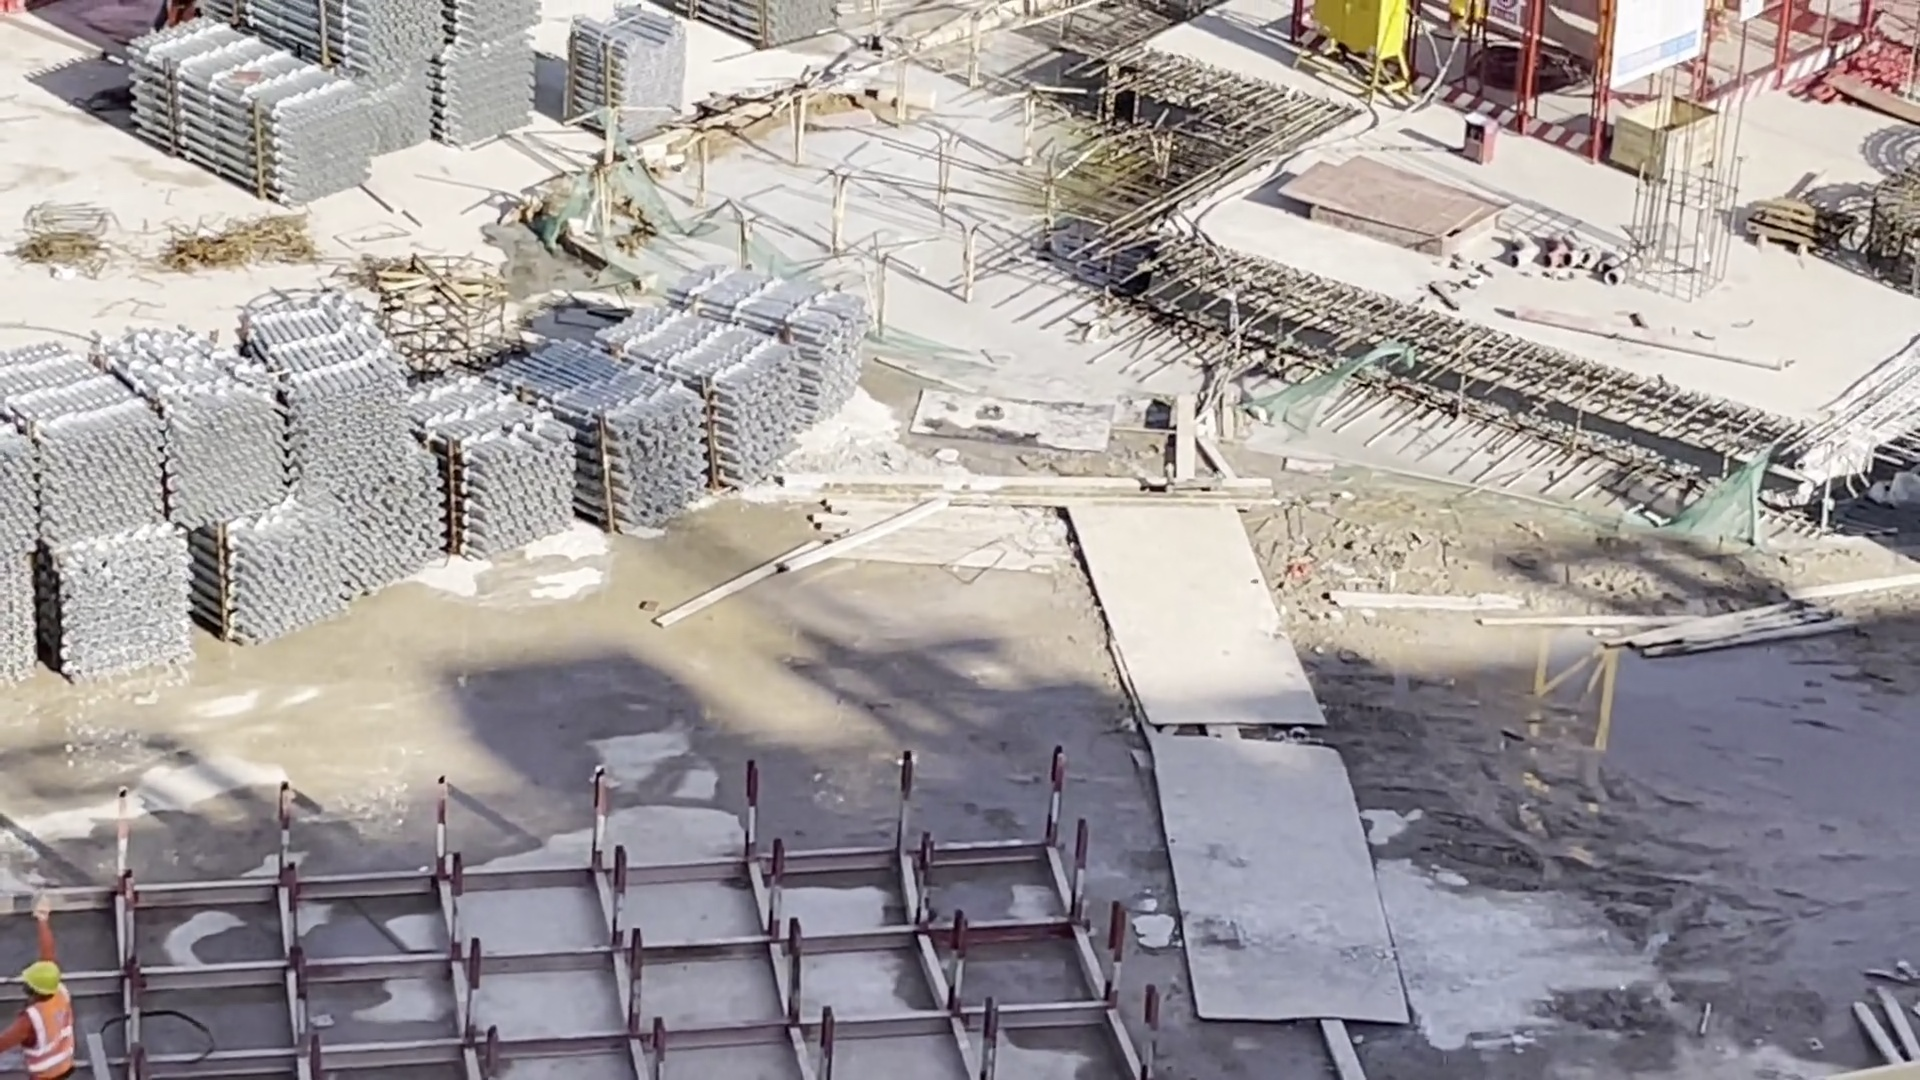board: (1275, 139, 1510, 265)
ebox: (1295, 2, 1415, 87)
helmet: (14, 946, 93, 1018)
person: (10, 941, 110, 1080)
scaffold: (1, 255, 868, 689), (126, 2, 529, 204), (562, 5, 694, 143)
vest: (8, 1016, 98, 1080)
